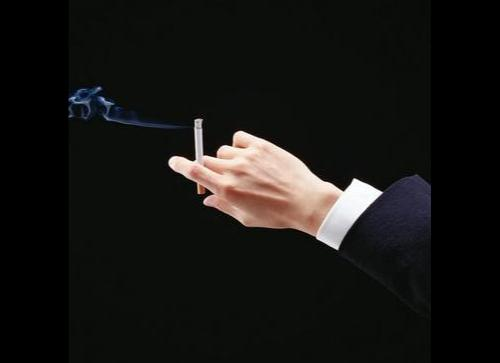Cigarette: (194, 118, 207, 192)
Smoke: (69, 84, 151, 130)
